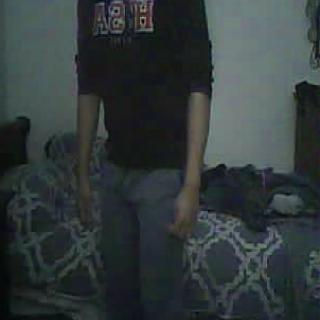Blue Sweatpants: (93, 167, 188, 320)
HOSA Hoodie: (76, 0, 212, 159)
